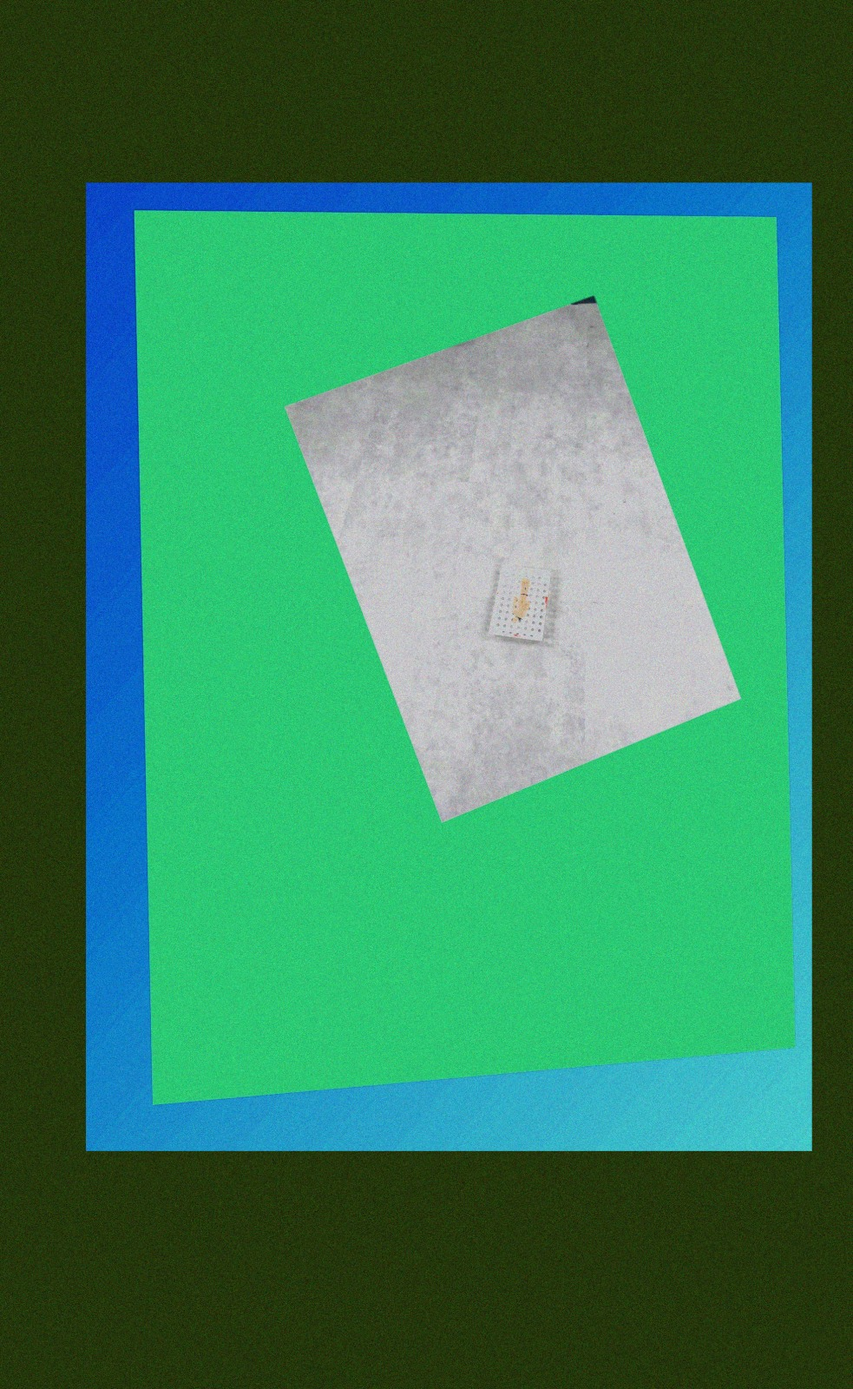basket: (486, 560, 557, 648)
mannequin: (509, 577, 534, 627)
